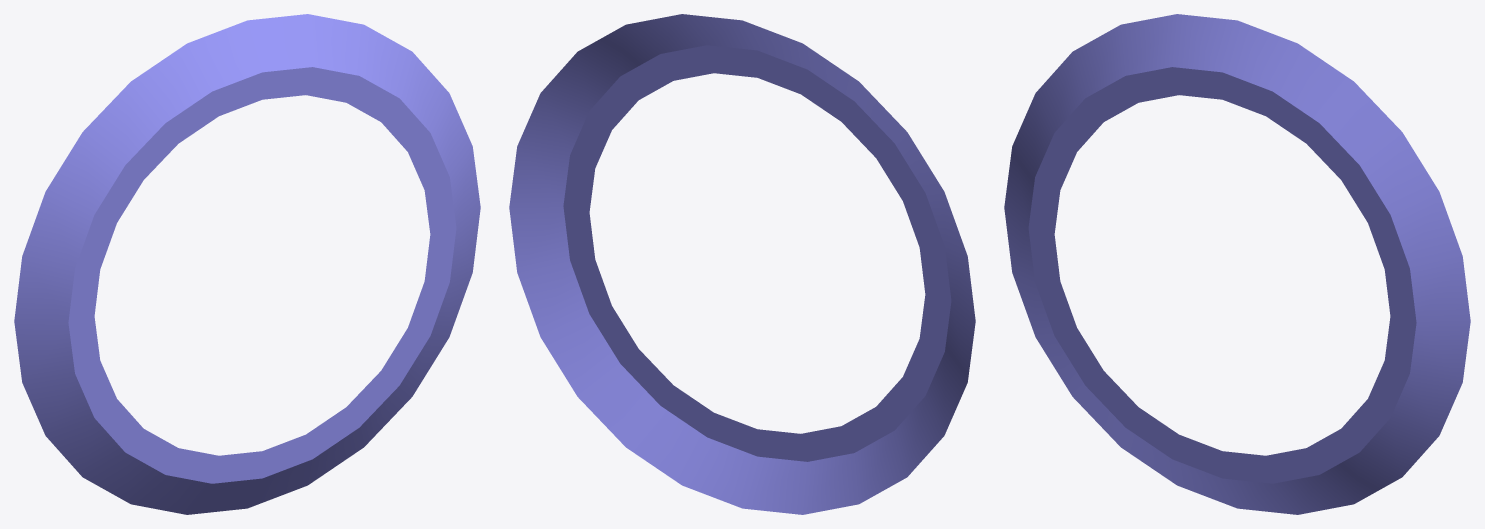
Rendered from original-6.obj.
3 views of the same model, side by side, from view 1: azimuth 30°, elevation 25°; view 2: azimuth 150°, elevation 25°; view 3: azimuth 330°, elevation 25° (orthographic).
Visible parts, largest first — view 1: #ID48; view 2: #ID48; view 3: #ID48.
Part boxes in pixels (left/top/right/bottom): #ID48: left=14, top=14, right=480, bottom=514; #ID48: left=509, top=14, right=975, bottom=514; #ID48: left=1004, top=14, right=1470, bottom=514.
Size of the model in its own units: 0.2639 by 0.2639 by 0.0147.
